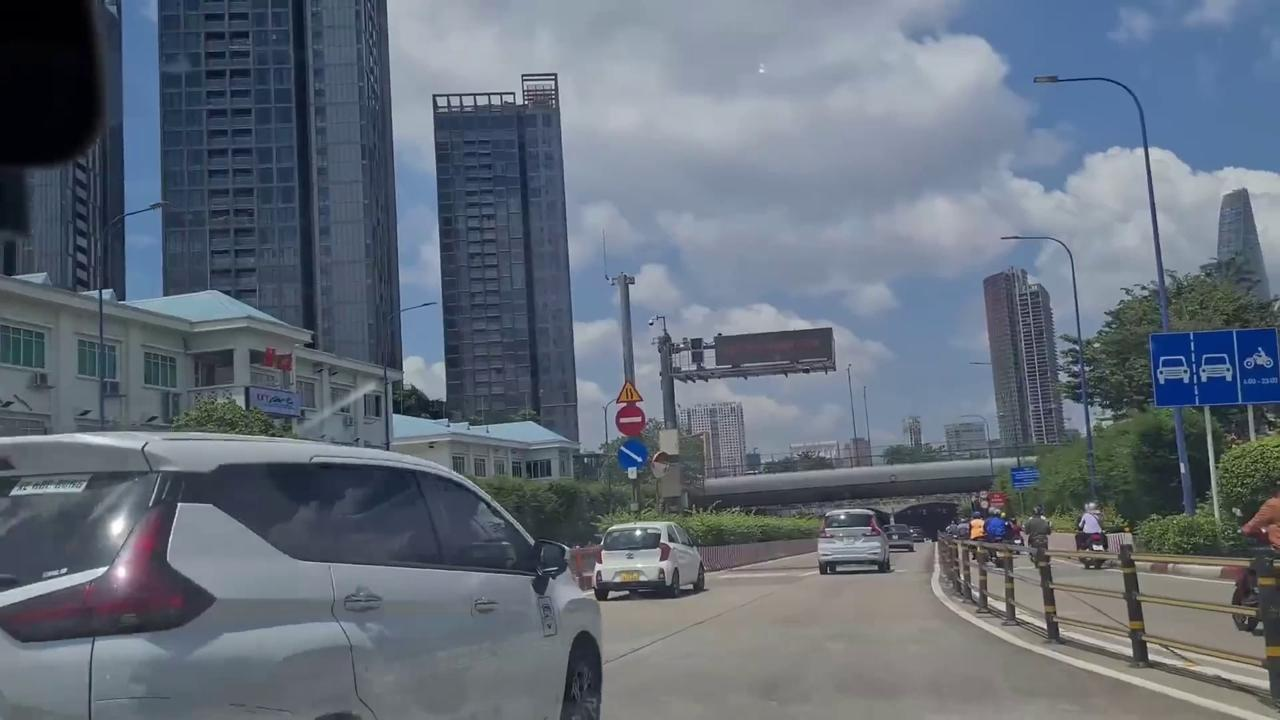Cấm đi ngược chiều: (615, 405, 648, 436)
Hướng phải đi vòng sang phải: (616, 437, 648, 471)
Làn đường cho từng xe: (1146, 325, 1280, 407)
Đuờng hẹp: (612, 380, 645, 404)
